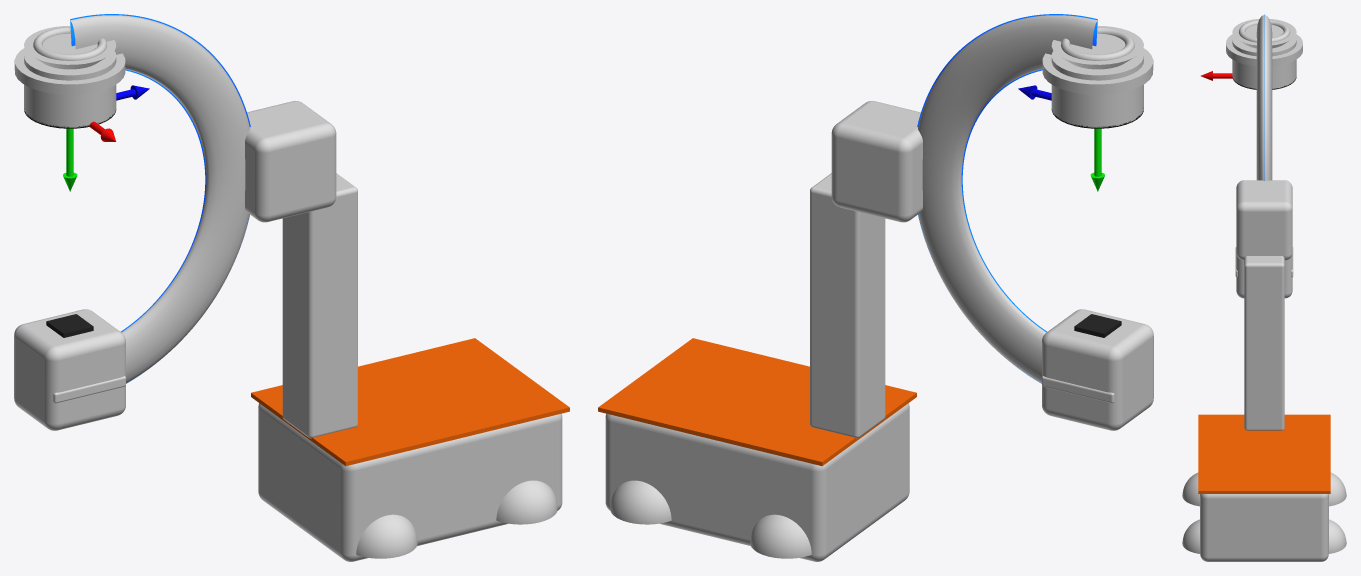
The model's file is carm.glb.
3 views of the same model, side by side, from view 1: azimuth 30°, elevation 25°; view 2: azimuth 150°, elevation 25°; view 3: azimuth 270°, elevation 25° (orthographic). The views are drawn at different scales.
Size of the model in its own units: 2.5 by 2.73 by 1.02.
